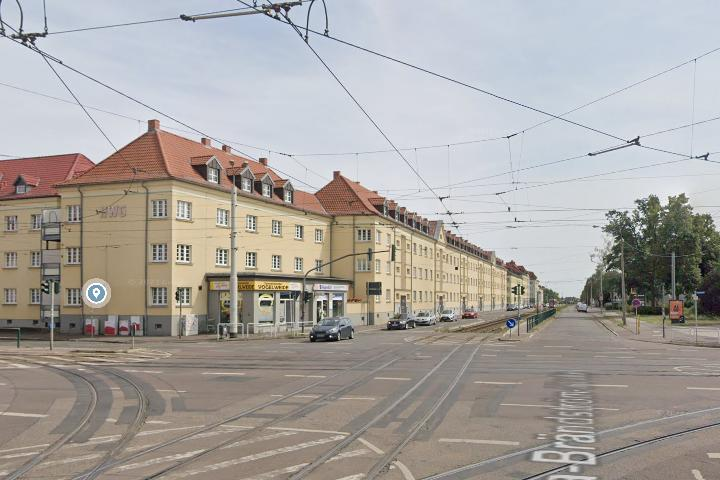google_maps: (86, 283, 108, 305)
traffic_sign: (506, 318, 516, 328)
vehicle: (309, 315, 356, 343), (386, 312, 418, 330), (413, 311, 438, 325), (439, 309, 457, 322), (461, 308, 479, 320)
